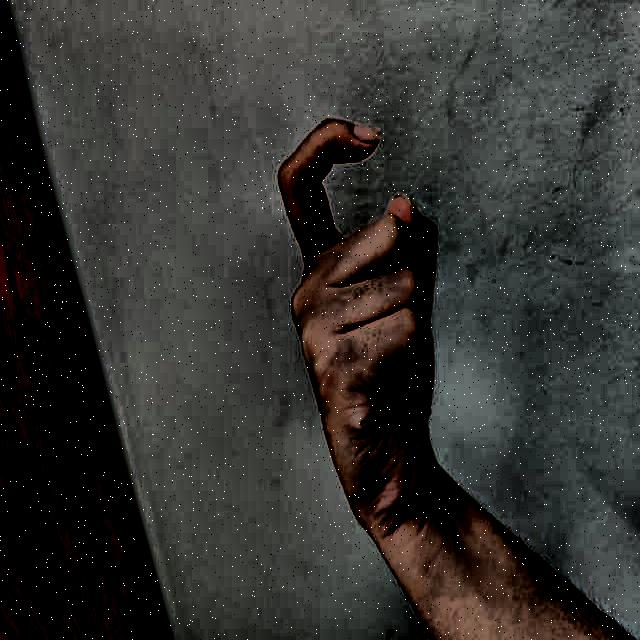E: (242, 67, 524, 527)
